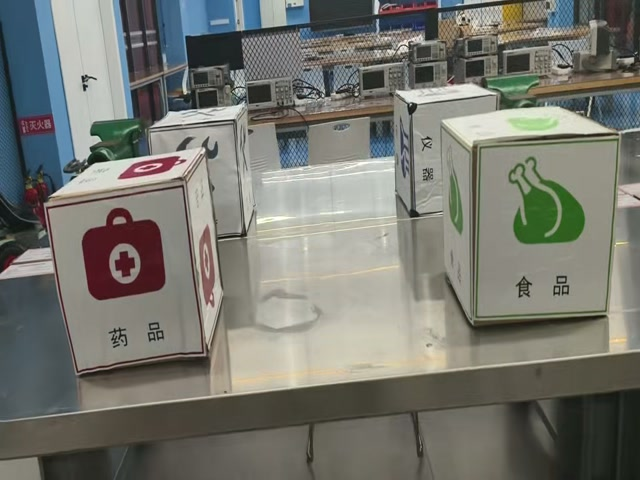Cube_food: (443, 107, 618, 151)
Cube_ins: (396, 84, 497, 106)
Cube_medicine: (47, 149, 205, 206)
Cube_tool: (149, 104, 246, 131)
